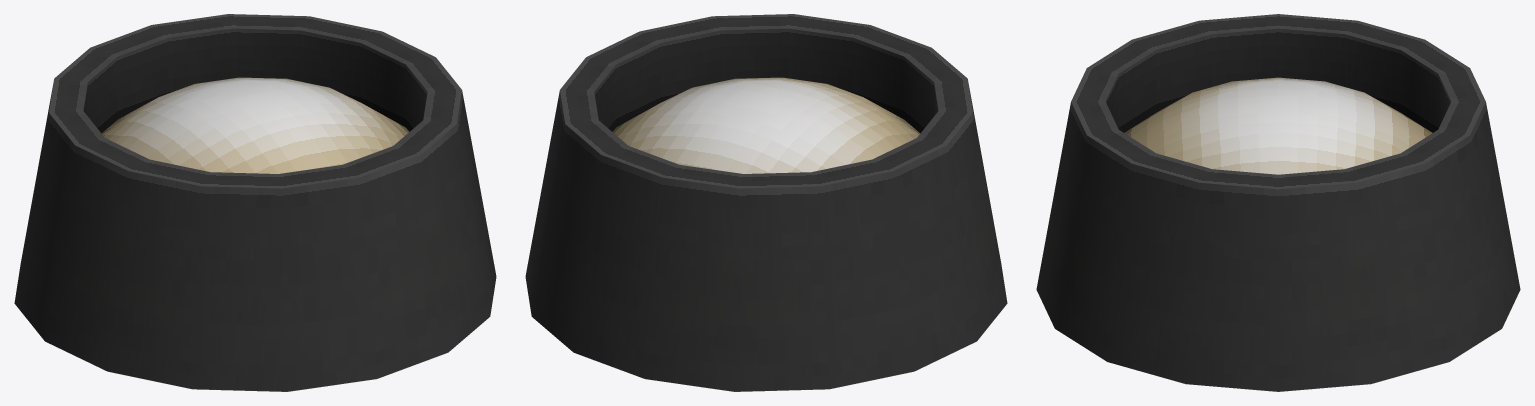
File: light.obj
3 views of the same model, side by side, from view 1: azimuth 30°, elevation 25°; view 2: azimuth 150°, elevation 25°; view 3: azimuth 270°, elevation 25° (orthographic).
Parts seen in each view (by area): view 1: 1; view 2: 1; view 3: 1.
Boxes of the visible parts, x1,y1,x2,y2 form: 1: (14,14,496,391); 1: (525,14,1007,391); 1: (1036,14,1520,391).
Bounding box in the file's own units: 0.0875 × 0.0375 × 0.0875.
1 material, 1 textured.
